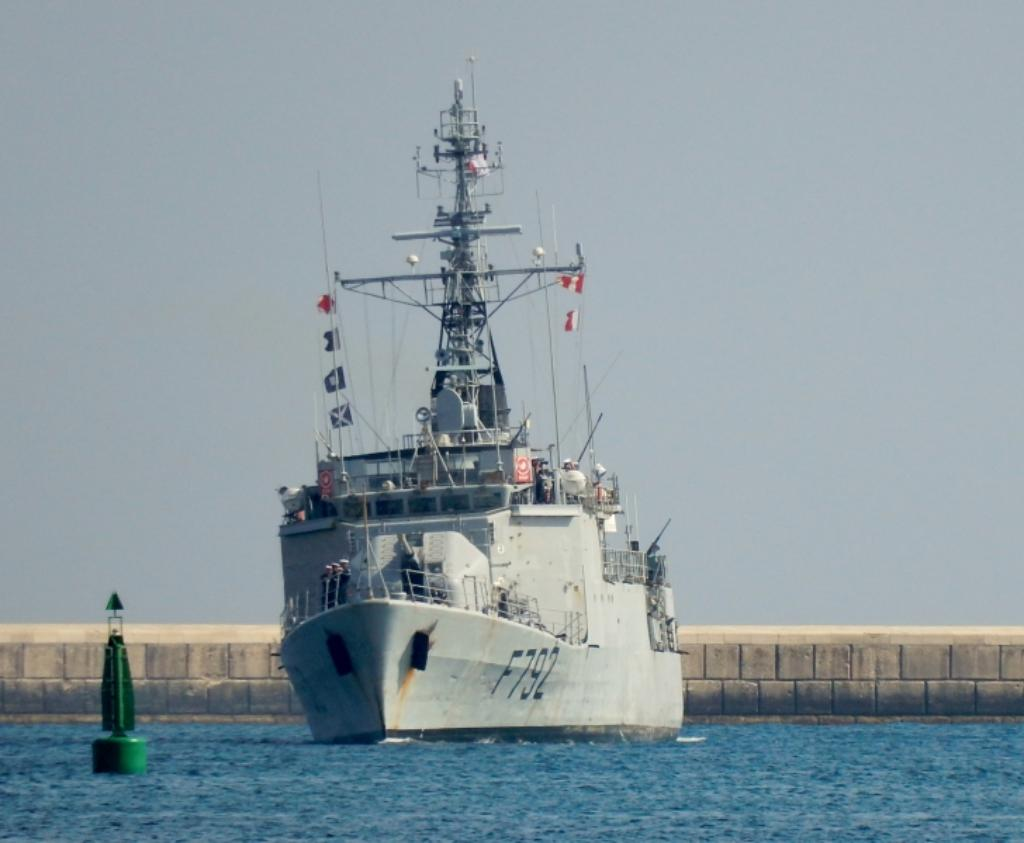Warship: (270, 51, 692, 750)
